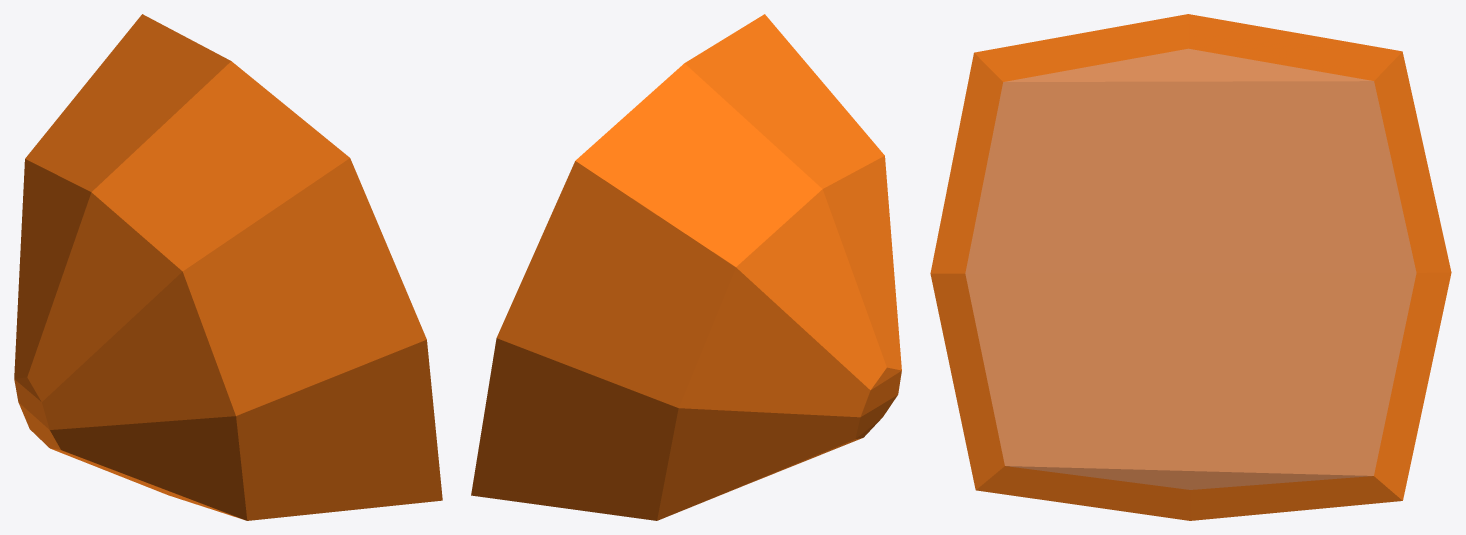
File: orangeHalf.fbx
3 views of the same model, side by side, from view 1: azimuth 30°, elevation 25°; view 2: azimuth 150°, elevation 25°; view 3: azimuth 270°, elevation 25° (orthographic). The views are drawn at different scales.
Visible parts, largest first — view 1: orangeHalf; view 2: orangeHalf; view 3: orangeHalf.
Part boxes in pixels (x1=…): orangeHalf: x1=14, y1=14, x2=442, y2=520; orangeHalf: x1=471, y1=14, x2=901, y2=520; orangeHalf: x1=930, y1=14, x2=1451, y2=520.
Size of the model in its own units: 4.6 by 5.56 by 5.9.
1 material, 1 textured.
